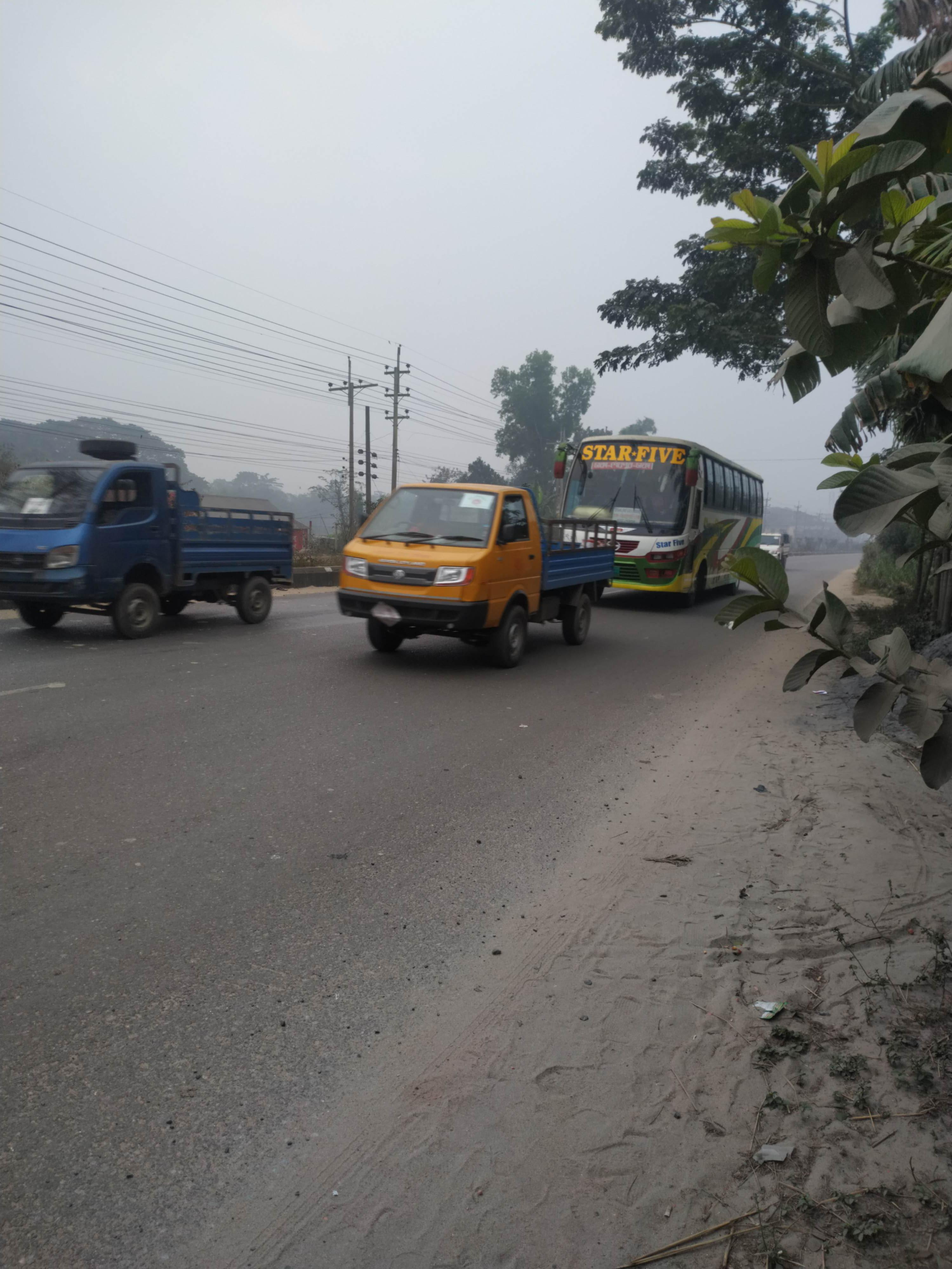Bus: (563, 415, 771, 608)
Truck: (338, 457, 623, 677), (8, 436, 313, 632)
